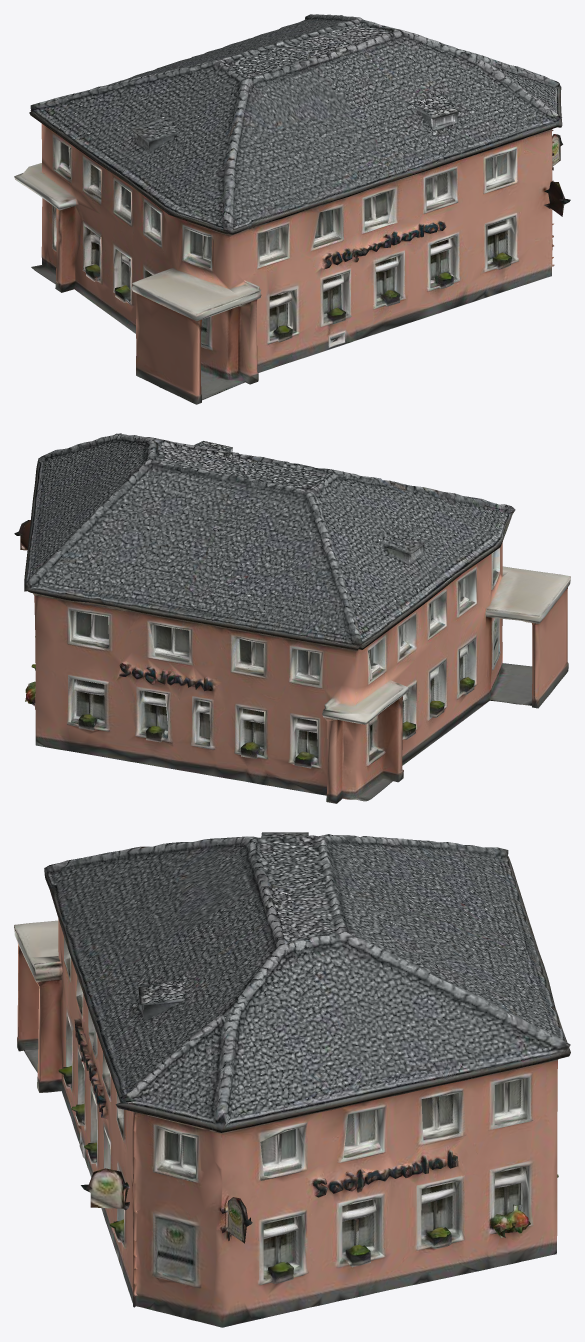
File: jaegerwaeldchen.glb
The picture shows the model from 3 angles, top to bottom: view 1: azimuth 30°, elevation 25°; view 2: azimuth 150°, elevation 25°; view 3: azimuth 270°, elevation 25°; orthographic projection. The views are drawn at different scales.
Parts seen in each view (by area): view 1: tripo_node_632ef851-89b4-4897-8ee0-3c718d6f4028; view 2: tripo_node_632ef851-89b4-4897-8ee0-3c718d6f4028; view 3: tripo_node_632ef851-89b4-4897-8ee0-3c718d6f4028.
Part boxes in pixels (x1,y1,x2,y2): tripo_node_632ef851-89b4-4897-8ee0-3c718d6f4028: [14, 14, 570, 404]; tripo_node_632ef851-89b4-4897-8ee0-3c718d6f4028: [14, 433, 570, 803]; tripo_node_632ef851-89b4-4897-8ee0-3c718d6f4028: [14, 832, 570, 1327].
Bounding box in the file's own units: 1 × 0.4631 × 0.7721.
1 material, 1 textured.
